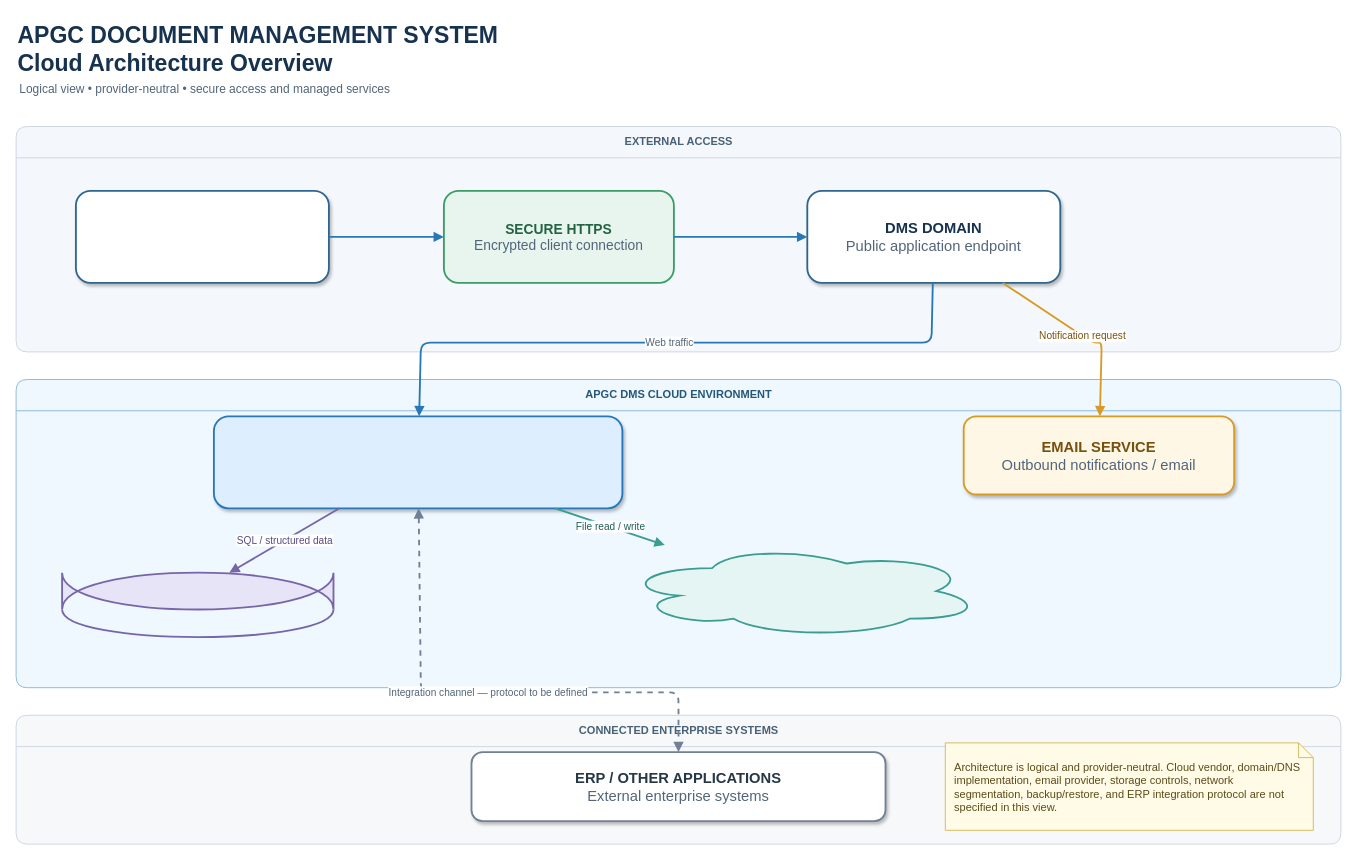
The diagram is 1357 pixels wide and 860 high, and some of its shapes have lost their labels. Each missing label, with the centre of its shape:
"APGC USERS Employees • reviewers • administrators" goes at point 203,238.
"CLOUD DOCUMENT STORAGE Files • PDFs • attachments" goes at point 801,591.
"DMS APPLICATION Document workspace • workflow • access control • audit" goes at point 418,463.
"POSTGRESQL DATABASE Structured records • users • workflow metadata" goes at point 197,590.
